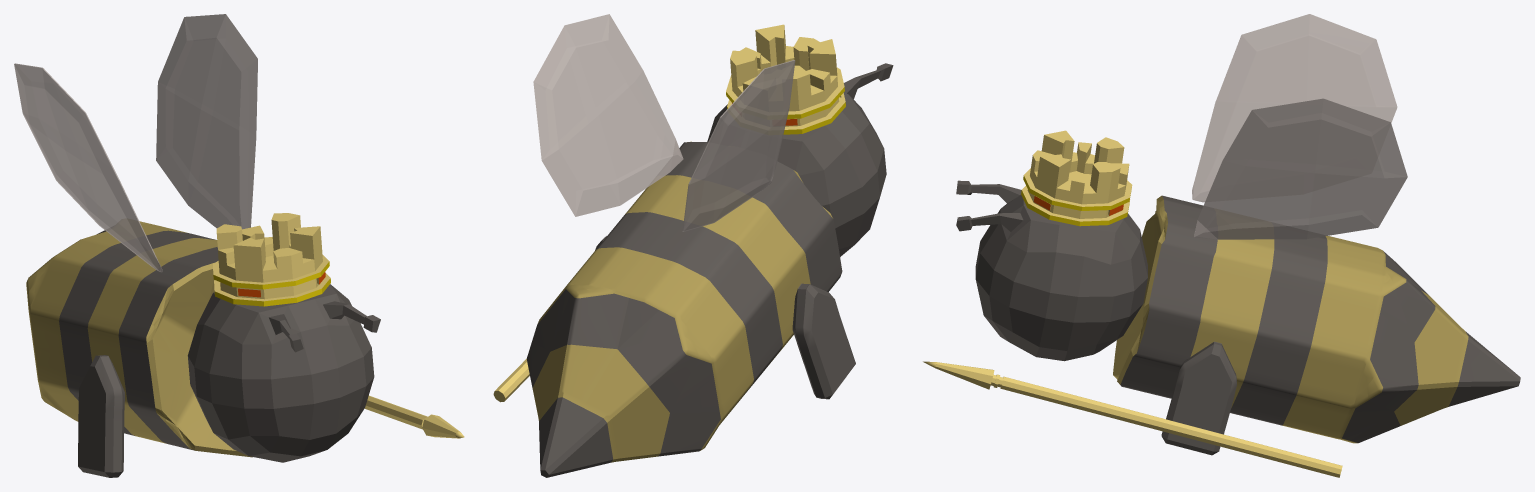
The model's file is bee_queen.fbx.
The picture shows the model from 3 angles, left to right: view 1: azimuth 30°, elevation 25°; view 2: azimuth 150°, elevation 25°; view 3: azimuth 270°, elevation 25°; orthographic projection. The views are drawn at different scales.
Visible parts, largest first — view 1: BeeQueen; view 2: BeeQueen; view 3: BeeQueen.
Part boxes in pixels (x1,y1,x2,y2): BeeQueen: (14,14,464,477); BeeQueen: (493,14,893,477); BeeQueen: (923,14,1520,477).
Size of the model in its own units: 2.48 by 3.52 by 5.14.
